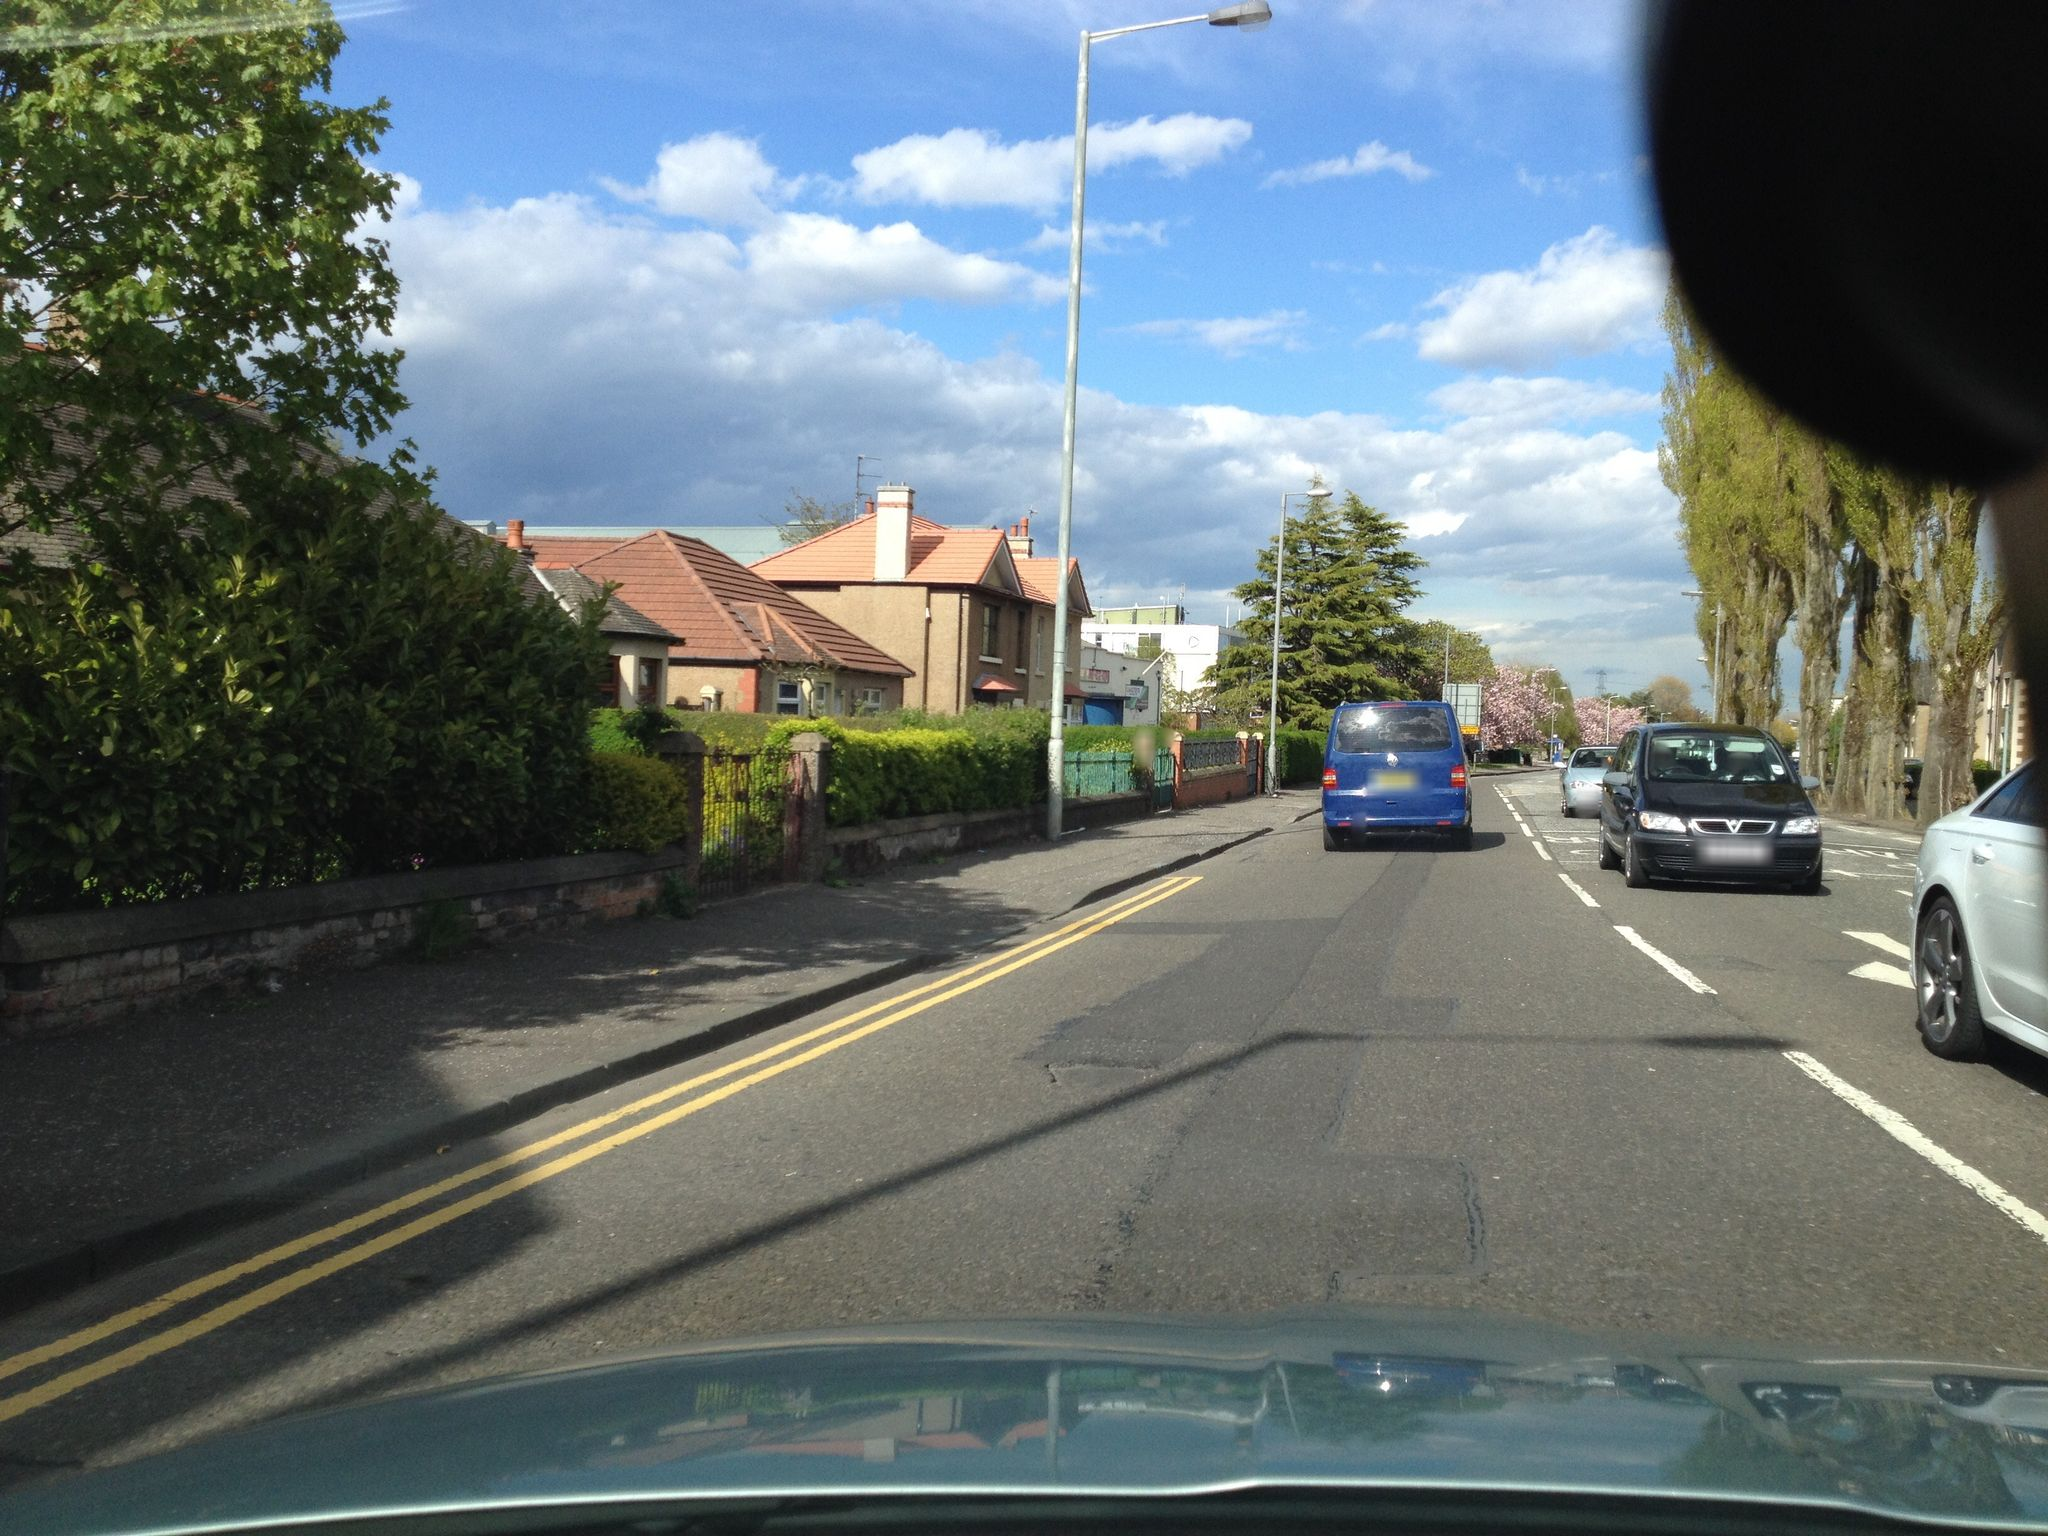car: (1909, 753, 2048, 1084), (1596, 721, 1825, 891), (1317, 699, 1476, 844), (1556, 745, 1621, 816)
